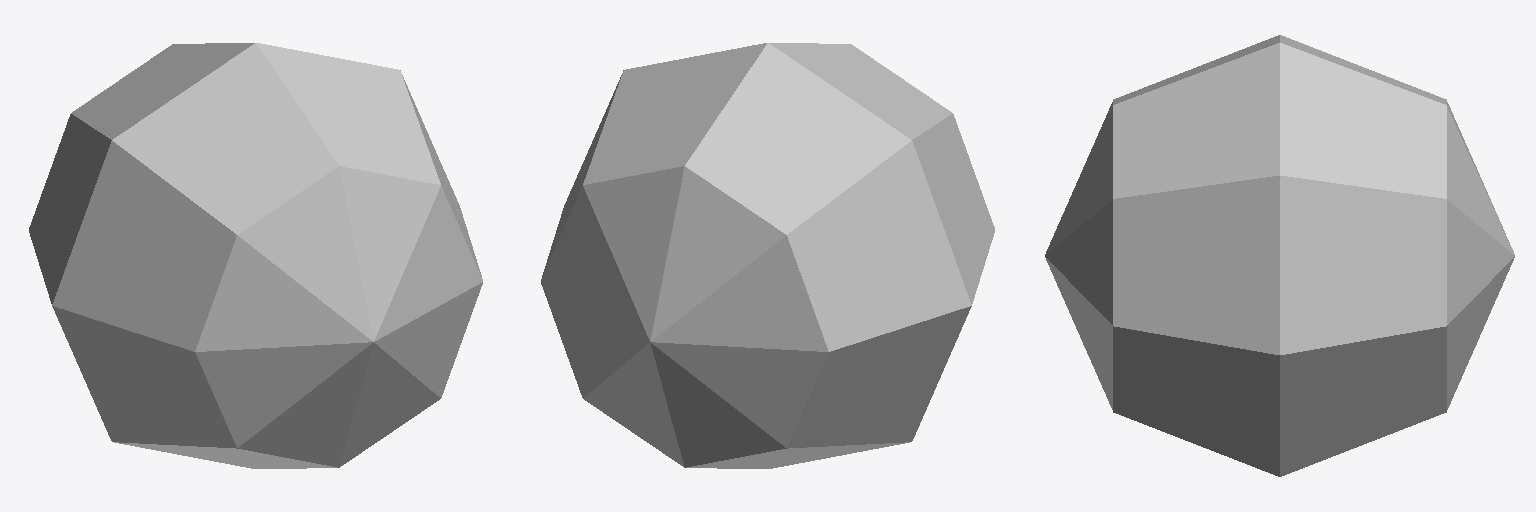
File: sphere_lowres.obj
The picture shows the model from 3 angles: view 1: azimuth 30°, elevation 25°; view 2: azimuth 150°, elevation 25°; view 3: azimuth 270°, elevation 25°; orthographic projection.
Parts seen in each view (by area): view 1: Sphere001; view 2: Sphere001; view 3: Sphere001.
Part boxes in pixels (x1,y1,x2,y2): Sphere001: (29,43,482,468); Sphere001: (541,43,994,468); Sphere001: (1045,35,1514,476).
Size of the model in its own units: 200 by 200 by 200.